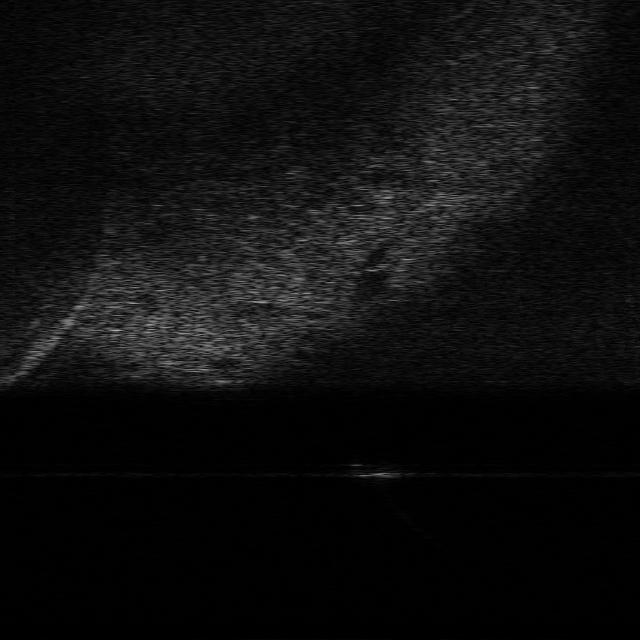cube: (345, 456, 397, 483)
